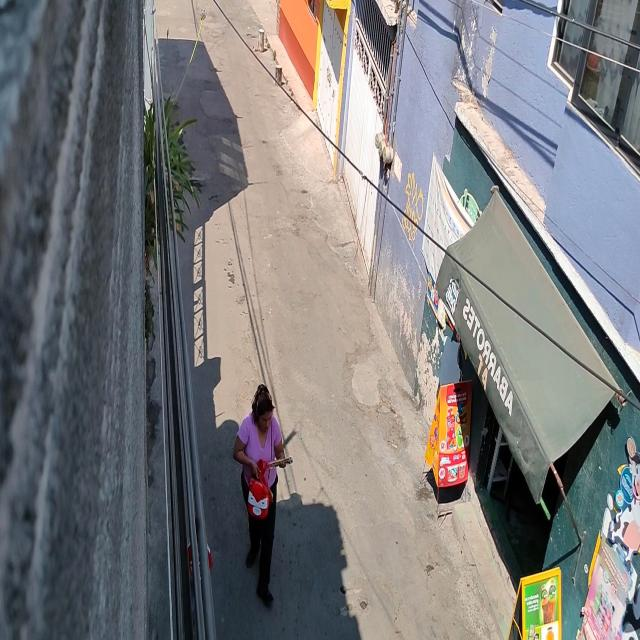adult: (233, 383, 287, 612)
